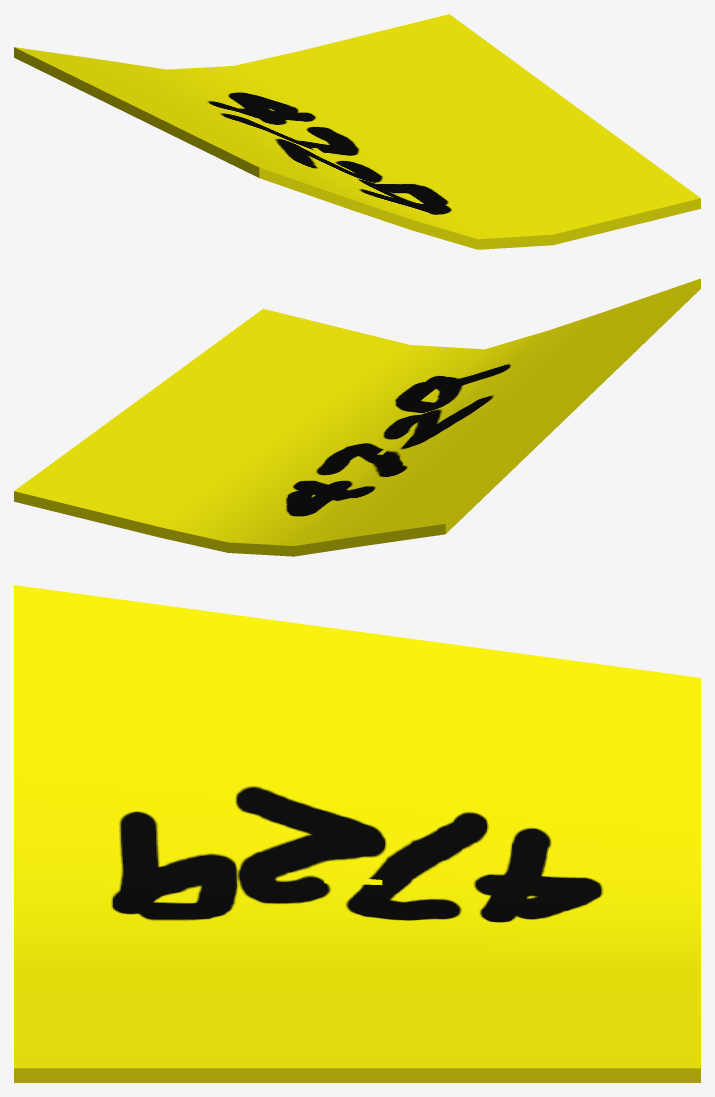
File: StickyNote.fbx
The picture shows the model from 3 angles, top to bottom: view 1: azimuth 30°, elevation 25°; view 2: azimuth 150°, elevation 25°; view 3: azimuth 270°, elevation 25°; orthographic projection. The views are drawn at different scales.
Visible parts, largest first — view 1: StickyNote1; view 2: StickyNote1; view 3: StickyNote1.
Part boxes in pixels (x1,y1,x2,y2): StickyNote1: [14, 14, 700, 249]; StickyNote1: [14, 278, 700, 556]; StickyNote1: [14, 585, 700, 1082].
Size of the model in its own units: 25.35 by 8.19 by 25.
